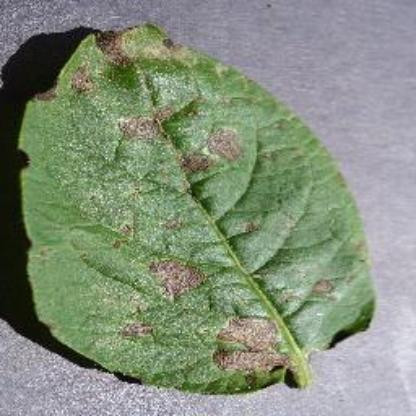Early-Blight: (14, 20, 382, 396)
